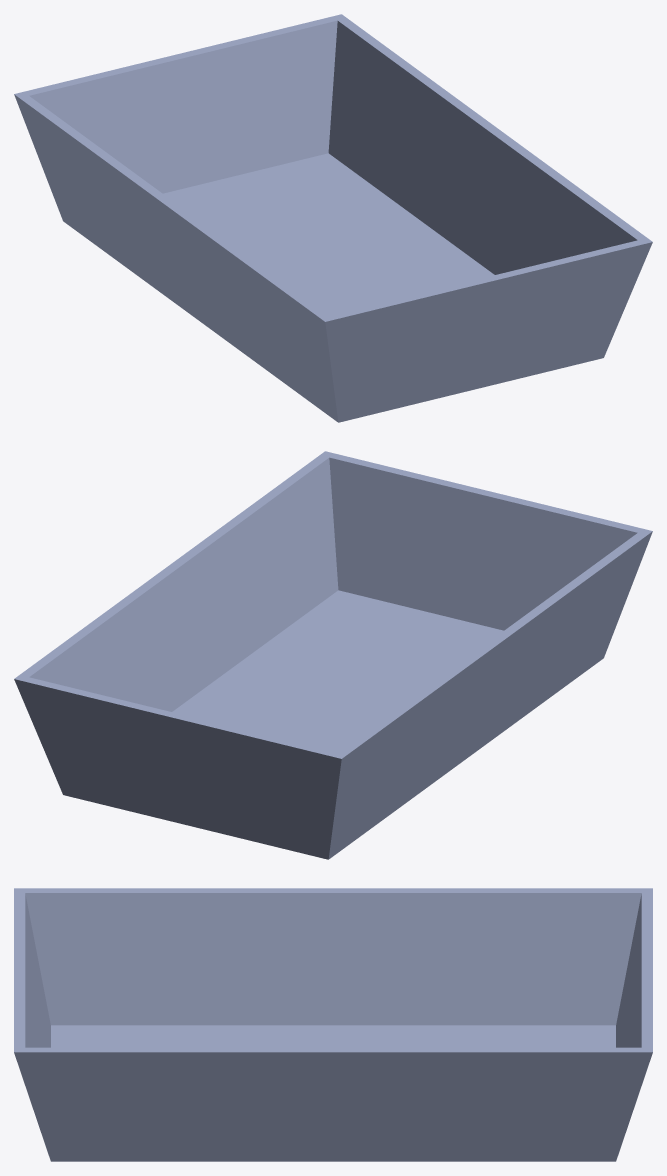
File: tray_high.dae
3 renders of one model, top to bottom at view 1: azimuth 30°, elevation 25°; view 2: azimuth 150°, elevation 25°; view 3: azimuth 270°, elevation 25°, orthographic. The views are drawn at different scales.
Visible parts, largest first — view 1: Plane; view 2: Plane; view 3: Plane.
Part boxes in pixels (<box>): Plane: <box>14,14,652,422</box>; Plane: <box>14,451,652,859</box>; Plane: <box>14,888,652,1161</box>.
Size of the model in its own units: 0.6838 by 1.12 by 0.2425.
